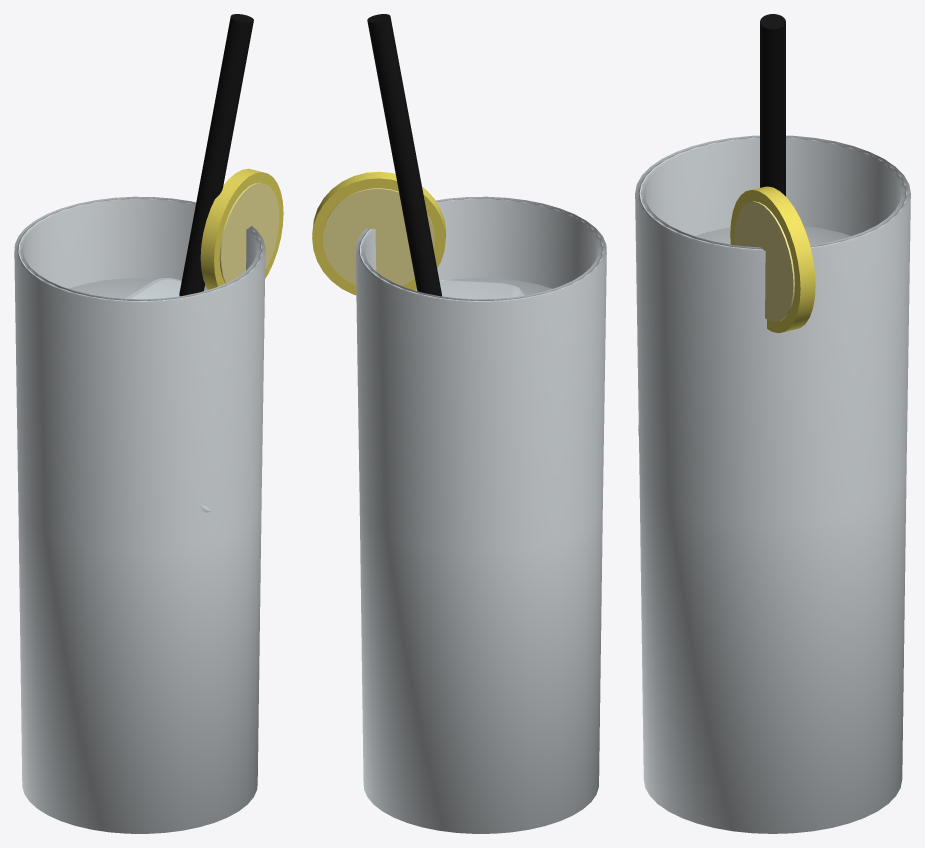
The model's file is bibite-vodka-tonic.glb.
3 views of the same model, side by side, from view 1: azimuth 30°, elevation 25°; view 2: azimuth 150°, elevation 25°; view 3: azimuth 270°, elevation 25° (orthographic). The views are drawn at different scales.
Bounding box in the file's own units: 0.0779 × 0.2086 × 0.064.
